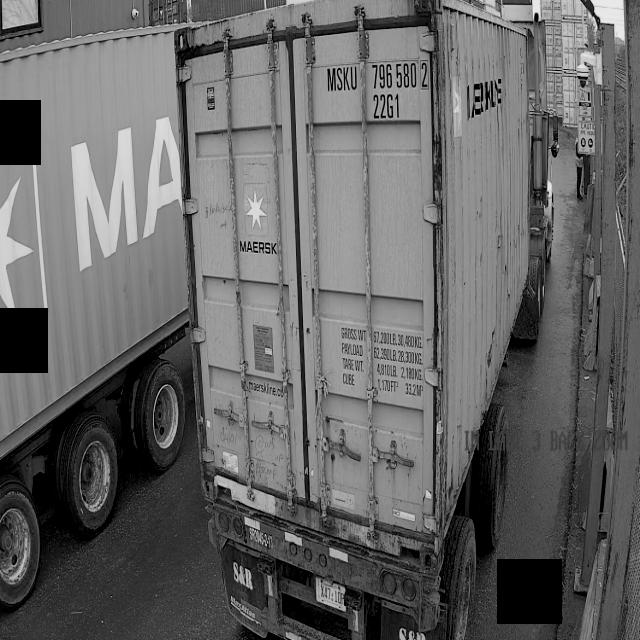container_company_logo: (240, 183, 277, 254)
container_number: (317, 47, 456, 130)
driver: (571, 131, 584, 208)
license_plate: (316, 578, 345, 611)
other_container_info: (339, 316, 427, 401)
truck_with_container: (175, 0, 559, 640), (0, 27, 188, 610)
